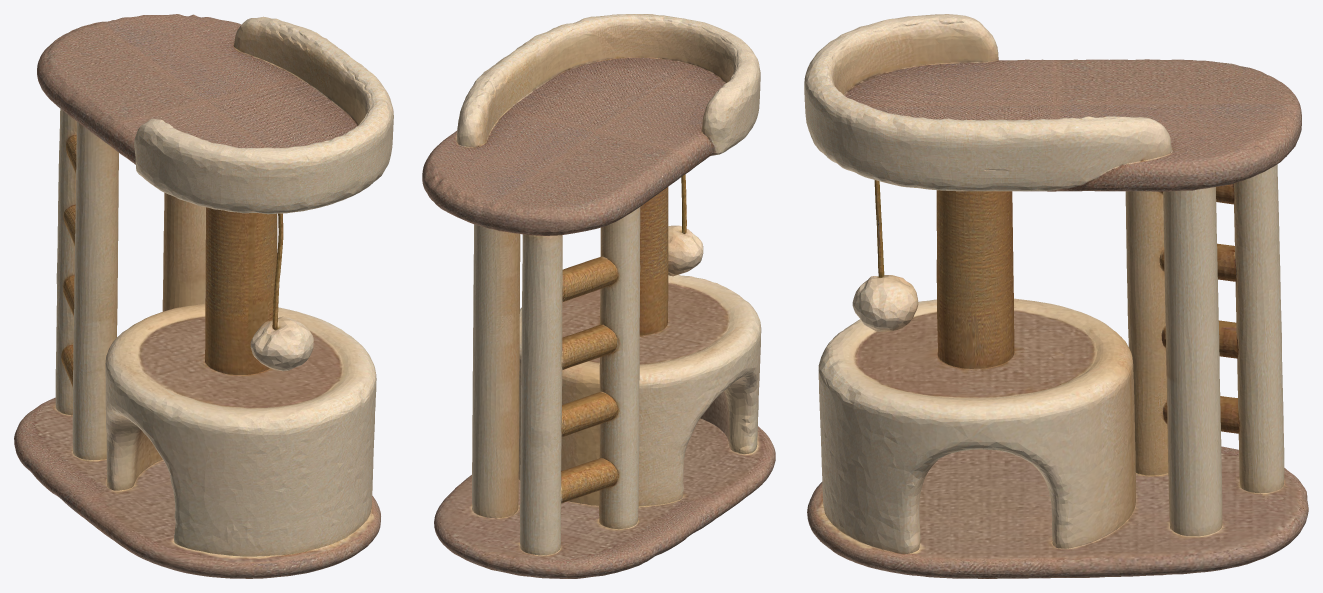
Rendered from DOM_kotik_2__second.glb.
3 renders of one model, left to right at view 1: azimuth 30°, elevation 25°; view 2: azimuth 150°, elevation 25°; view 3: azimuth 270°, elevation 25°, orthographic. The views are drawn at different scales.
Visible parts, largest first — view 1: tripo_node_ee41dc90-6458-49b6-88f0-8bc06527206a; view 2: tripo_node_ee41dc90-6458-49b6-88f0-8bc06527206a; view 3: tripo_node_ee41dc90-6458-49b6-88f0-8bc06527206a.
Boxes of the visible parts, bbox=[...] form: tripo_node_ee41dc90-6458-49b6-88f0-8bc06527206a: bbox=[14, 14, 393, 578]; tripo_node_ee41dc90-6458-49b6-88f0-8bc06527206a: bbox=[422, 14, 775, 578]; tripo_node_ee41dc90-6458-49b6-88f0-8bc06527206a: bbox=[804, 14, 1308, 578].
Size of the model in its own units: 0.6046 by 0.9785 by 0.9646.
Materials: 1 (1 with a texture image).
